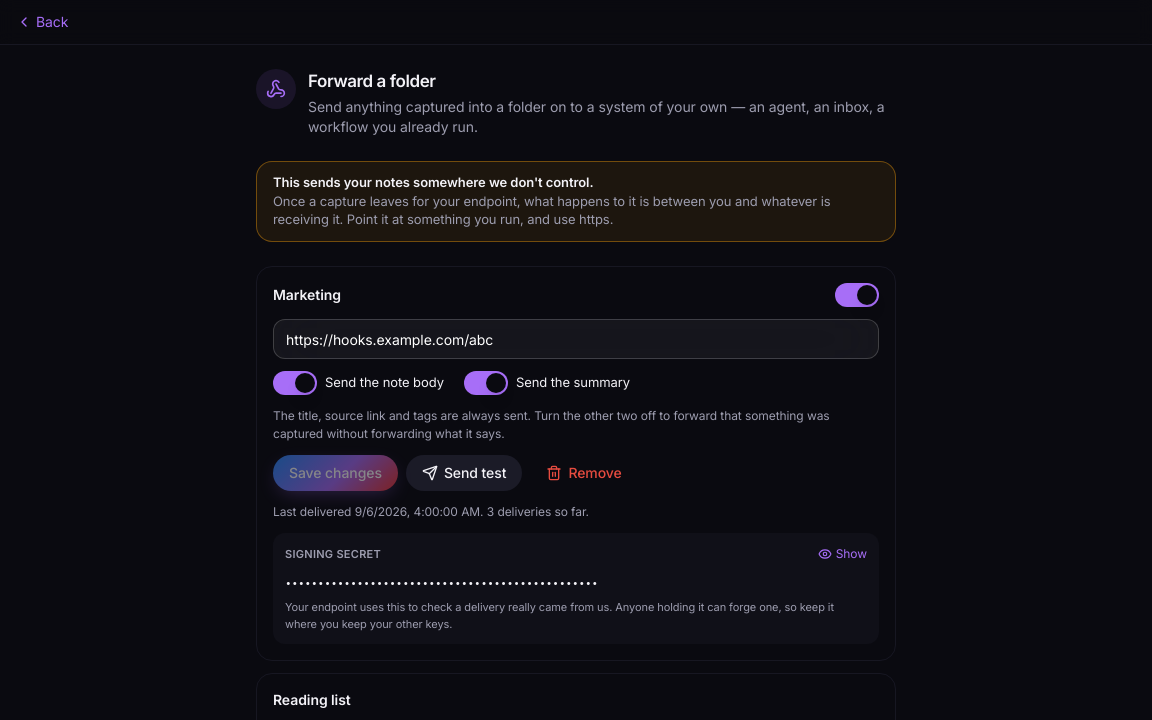
Scenario: Forward a folder › hides the signing secret until asked
Expected: the text "s3cr3t-value" is not shown
Click the button "Show".
click(842, 554)  # box [818, 545, 867, 563]
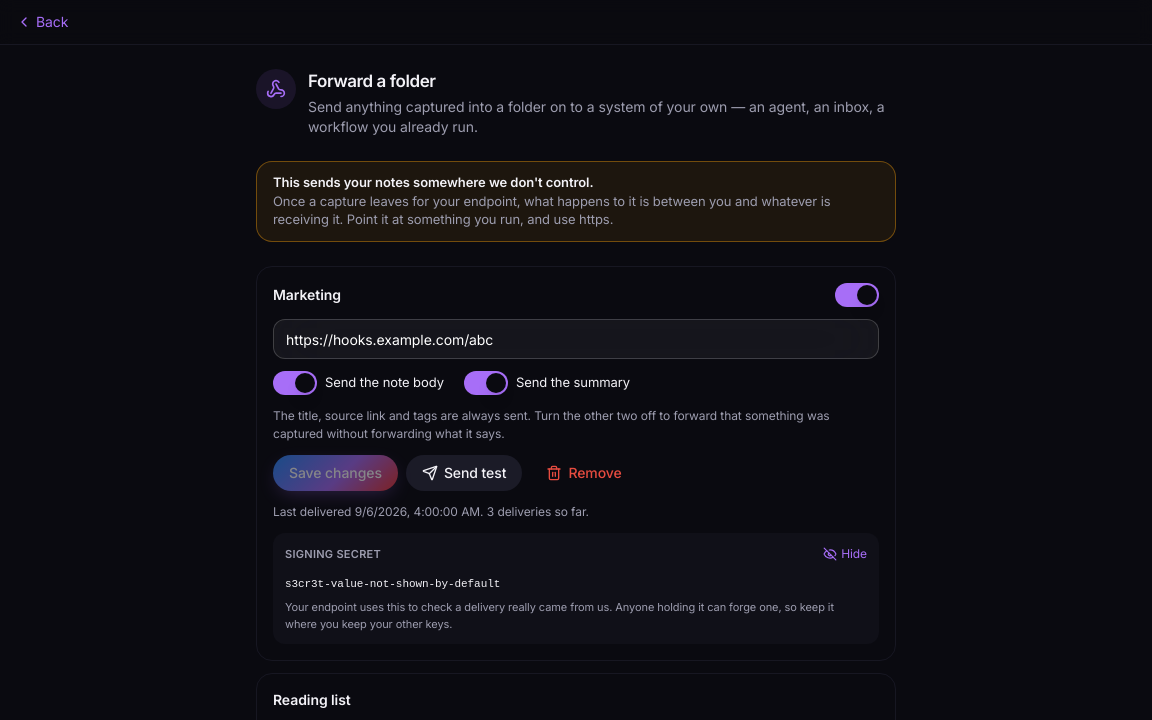
Expected: the text "s3cr3t-value-not-shown-by-default" is shown, [285, 578, 500, 590]
